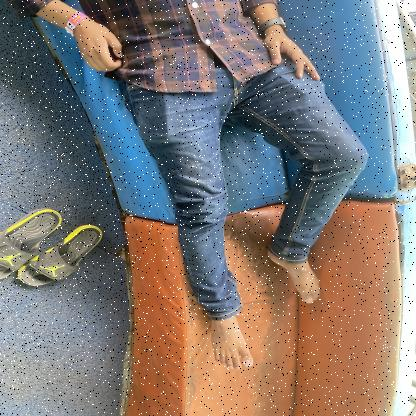hand: (233, 0, 333, 90), (29, 12, 135, 80)
leg: (173, 240, 262, 372), (263, 195, 344, 310)
